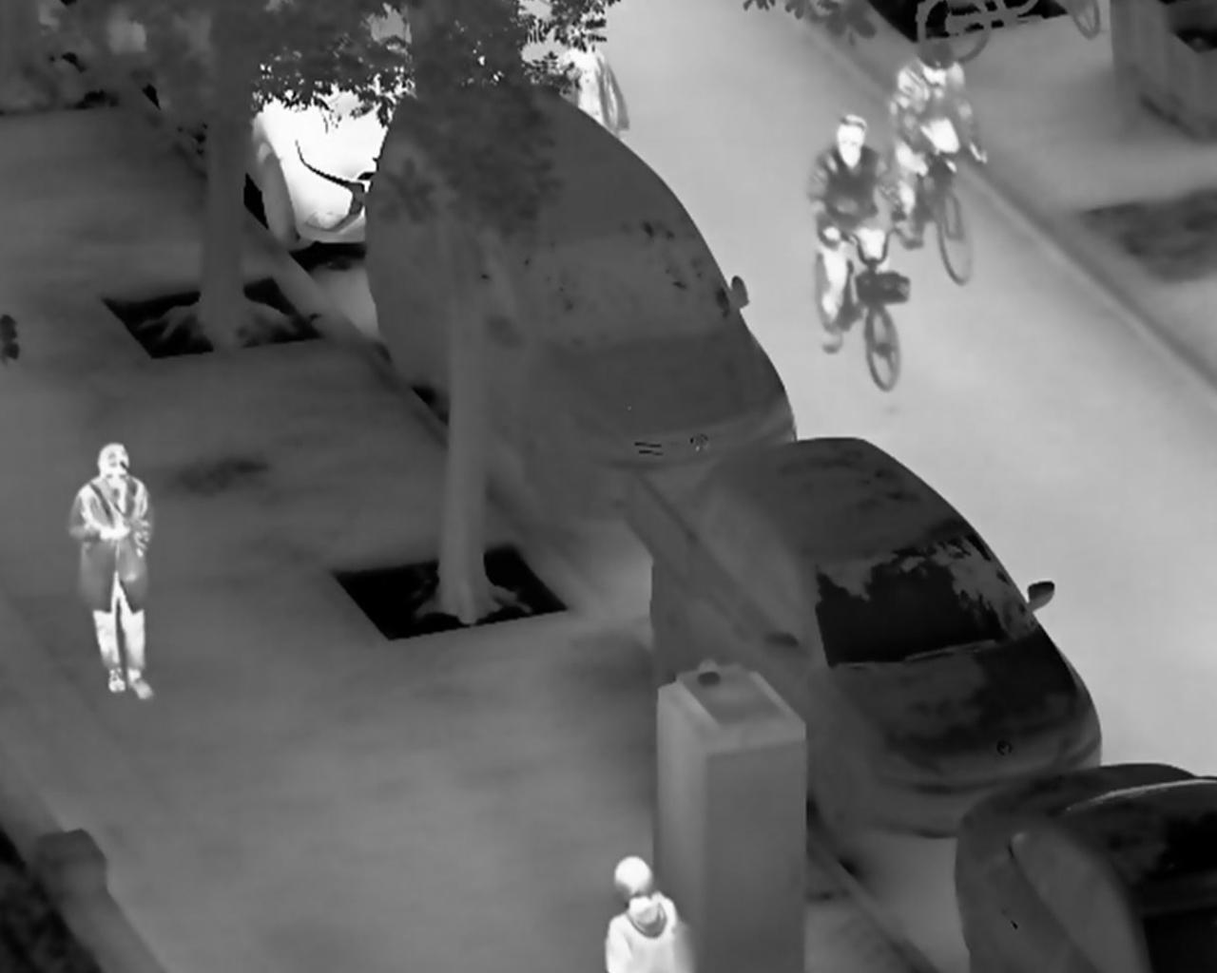person: (804, 115, 909, 356), (68, 442, 159, 700), (891, 39, 996, 251), (594, 850, 686, 973)
